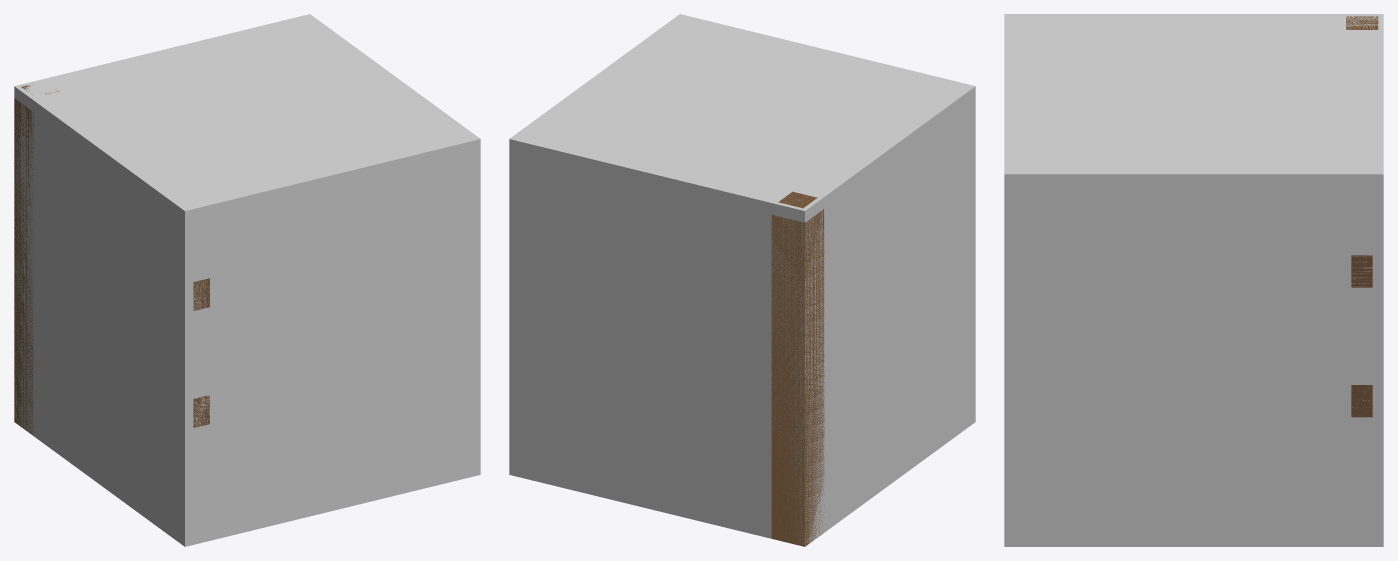
The model's file is FMS_Fence_Corner.fbx.
3 views of the same model, side by side, from view 1: azimuth 30°, elevation 25°; view 2: azimuth 150°, elevation 25°; view 3: azimuth 270°, elevation 25° (orthographic). The views are drawn at different scales.
Parts seen in each view (by area): view 1: FMS_Fence_Corner_Col, FMS_Fence_Corner_LOD0; view 2: FMS_Fence_Corner_Col, FMS_Fence_Corner_LOD0; view 3: FMS_Fence_Corner_Col, FMS_Fence_Corner_LOD0.
Boxes of the visible parts, x1,y1,x2,y2 form: FMS_Fence_Corner_Col: [14, 14, 480, 546]; FMS_Fence_Corner_LOD0: [14, 85, 209, 434]; FMS_Fence_Corner_Col: [509, 14, 975, 546]; FMS_Fence_Corner_LOD0: [771, 191, 824, 546]; FMS_Fence_Corner_Col: [1004, 14, 1383, 546]; FMS_Fence_Corner_LOD0: [1346, 16, 1378, 417].
Size of what is drawn, in the model's own units: 1.06 by 1.15 by 1.06.
Materials: 1 (1 with a texture image).
